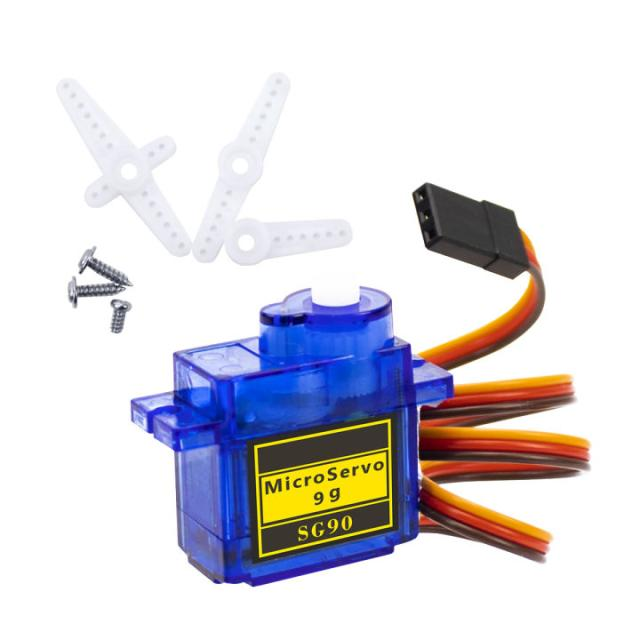motor: (138, 290, 444, 586)
